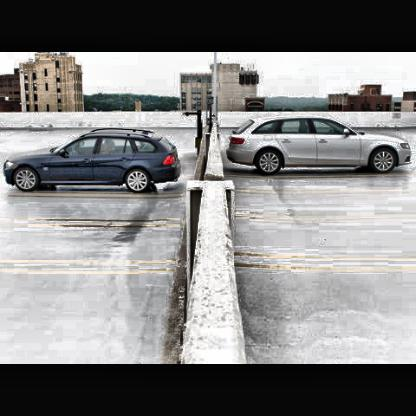BMW 3 Series Wagon 2012: (6, 128, 182, 194)
